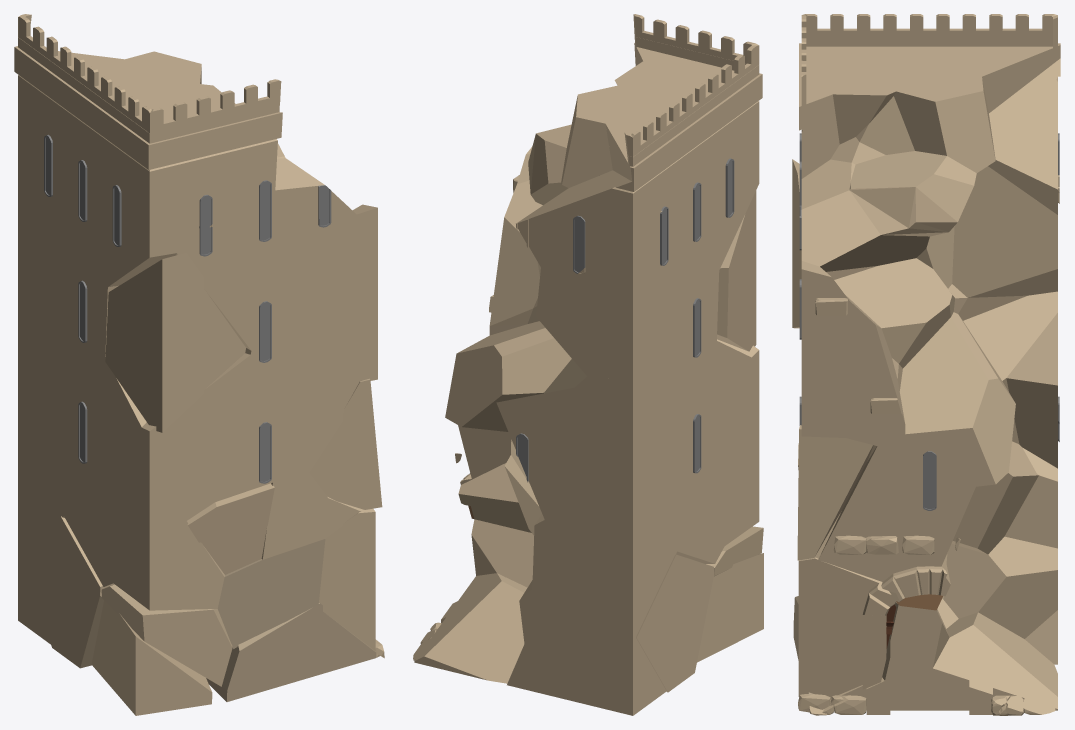
File: SM_debris_tower.fbx
3 renders of one model, left to right at view 1: azimuth 30°, elevation 25°; view 2: azimuth 150°, elevation 25°; view 3: azimuth 270°, elevation 25°, orthographic. The views are drawn at different scales.
Visible parts, largest first — view 1: debris_tower; view 2: debris_tower; view 3: debris_tower.
Part boxes in pixels (<box>): debris_tower: <box>14,14,384,715</box>; debris_tower: <box>413,14,763,715</box>; debris_tower: <box>792,14,1060,715</box>.
Size of the model in its own units: 549 by 1270 by 523.
